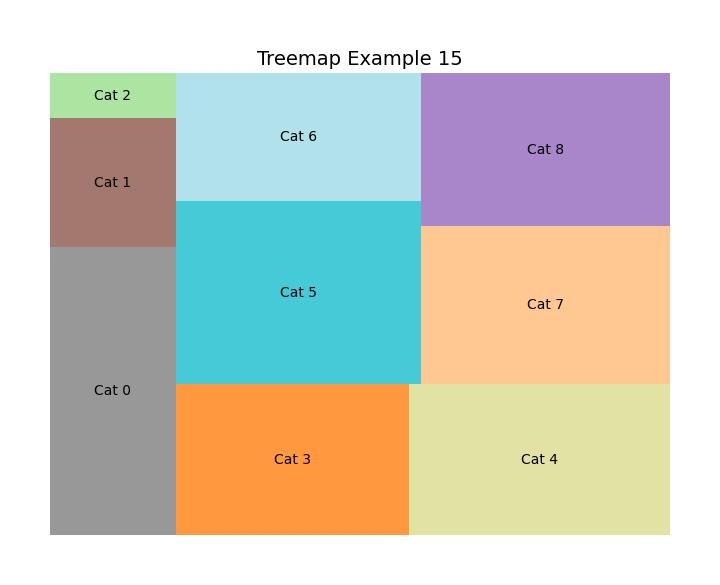rectangle: (177, 203, 422, 383), (408, 382, 669, 536), (423, 226, 668, 383), (419, 72, 670, 225), (50, 246, 178, 534), (175, 383, 412, 536), (176, 73, 419, 201), (50, 121, 175, 247), (47, 72, 177, 119)
